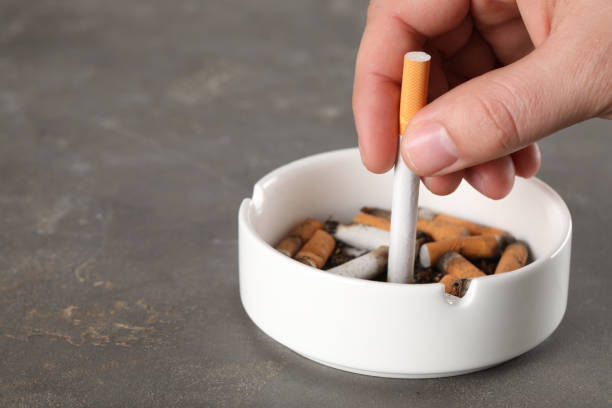cigarette: (386, 50, 432, 286), (418, 208, 507, 242), (418, 236, 500, 268), (326, 246, 389, 279), (273, 214, 322, 256), (294, 231, 333, 272), (333, 221, 391, 248), (437, 251, 487, 279), (492, 241, 531, 275), (417, 218, 471, 241), (436, 273, 470, 297), (355, 210, 392, 232)
